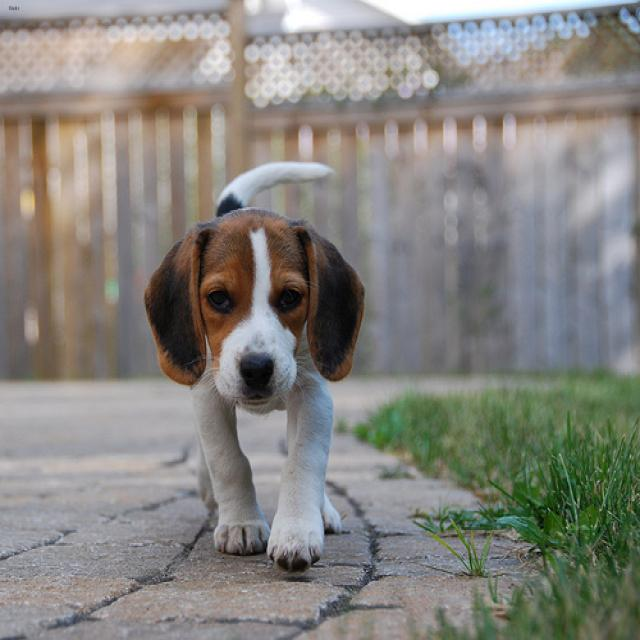dog-beagle: (132, 151, 375, 584)
